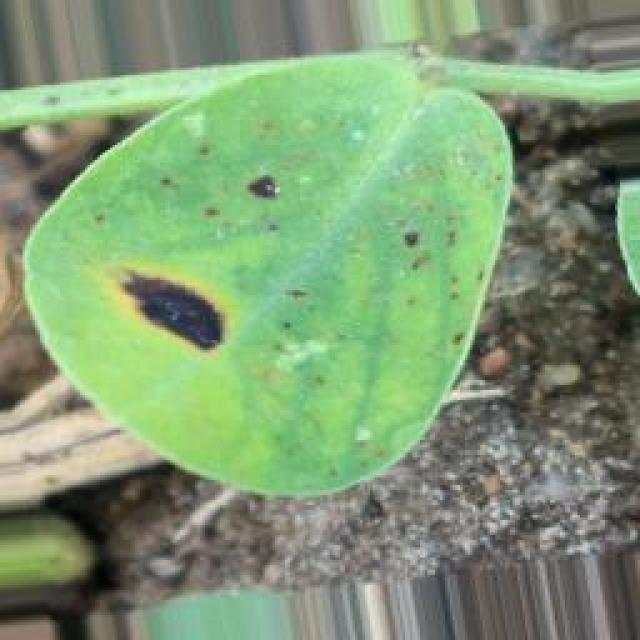Yellowish: (343, 178, 502, 363), (151, 105, 299, 256), (92, 234, 234, 381)
